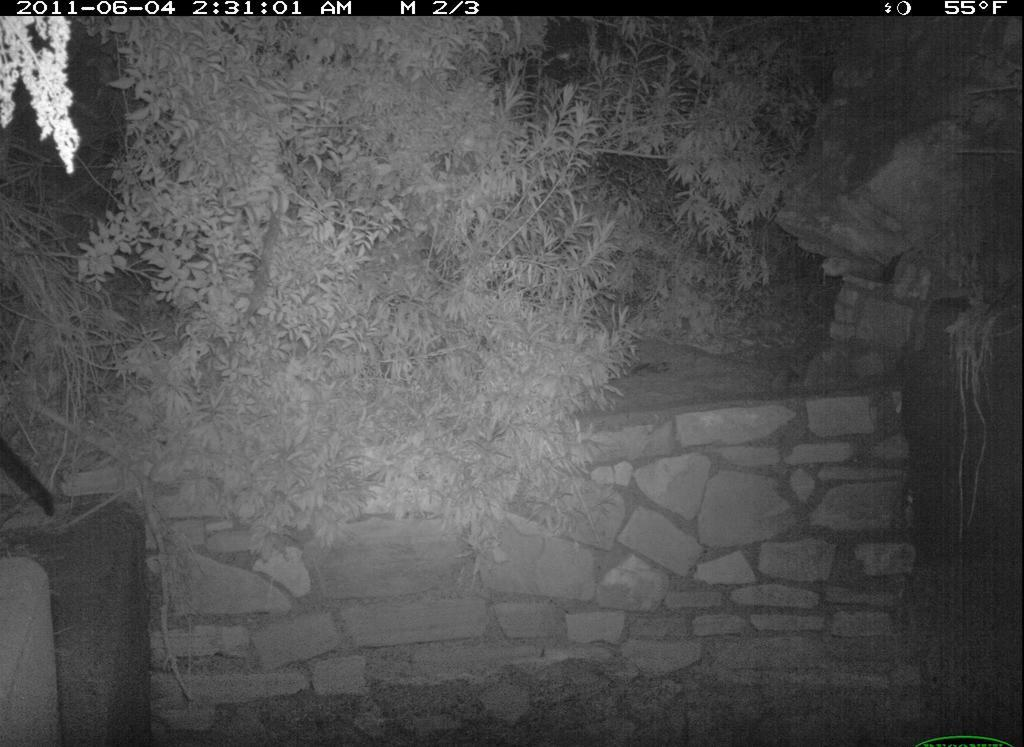cat: (2, 433, 59, 520)
